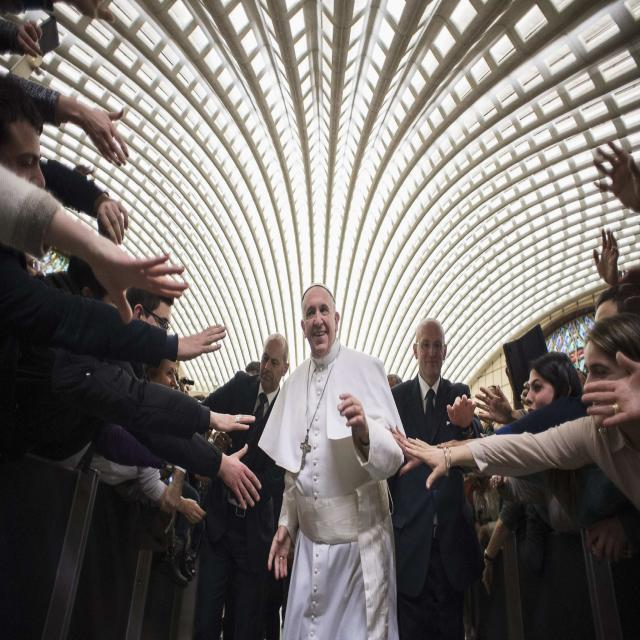body: (0, 74, 228, 368), (34, 244, 264, 516), (1, 0, 188, 305), (400, 349, 592, 640), (256, 281, 407, 640), (161, 331, 292, 640), (402, 355, 640, 515), (386, 316, 483, 639), (125, 285, 261, 512), (87, 355, 207, 589), (564, 131, 640, 327), (460, 368, 534, 524), (574, 357, 640, 432), (244, 357, 266, 378)
